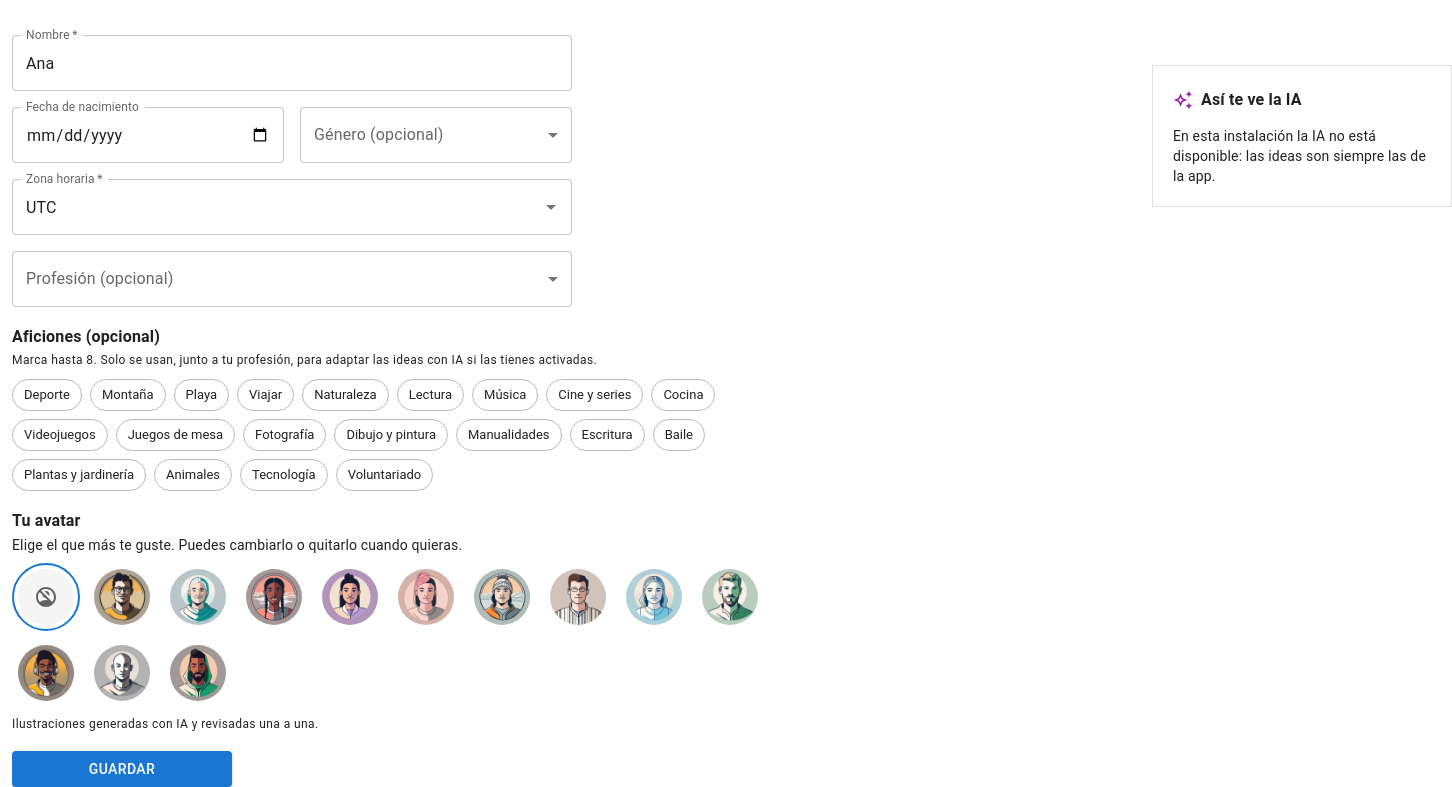
Test case: ProfileForm (RF-03) › muestra el error que devuelve el servidor al guardar
The image size is (1452, 787).
Check: the field labelled "Nombre *" holds "Ana", box [12,35,572,91]
Click the button "Guardar".
click(122, 769)  # box [12,751,232,786]
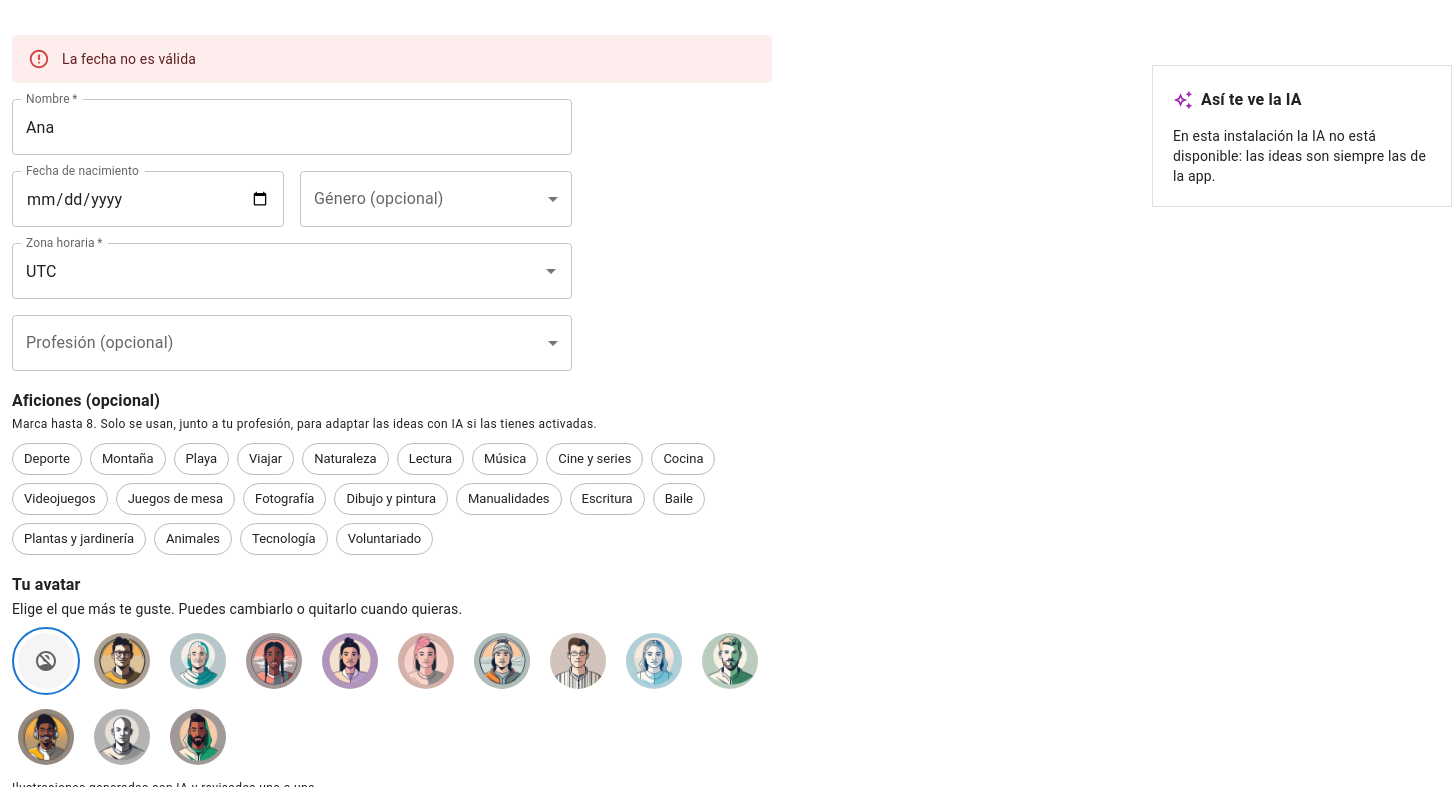
Check: the text "La fecha no es válida" is shown, box [62,51,196,67]
